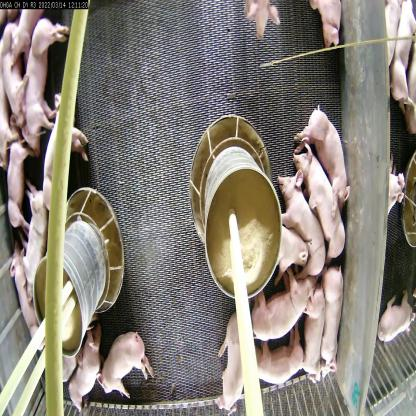Pig: (10, 16, 69, 154), (292, 140, 346, 271), (276, 161, 329, 287), (244, 265, 321, 344), (295, 104, 352, 208), (93, 328, 160, 404), (8, 234, 49, 355), (245, 319, 309, 389), (3, 123, 36, 239), (213, 308, 247, 416), (300, 272, 332, 385), (318, 257, 346, 377), (70, 320, 104, 415), (391, 0, 414, 124), (380, 280, 414, 354), (242, 0, 286, 44)
